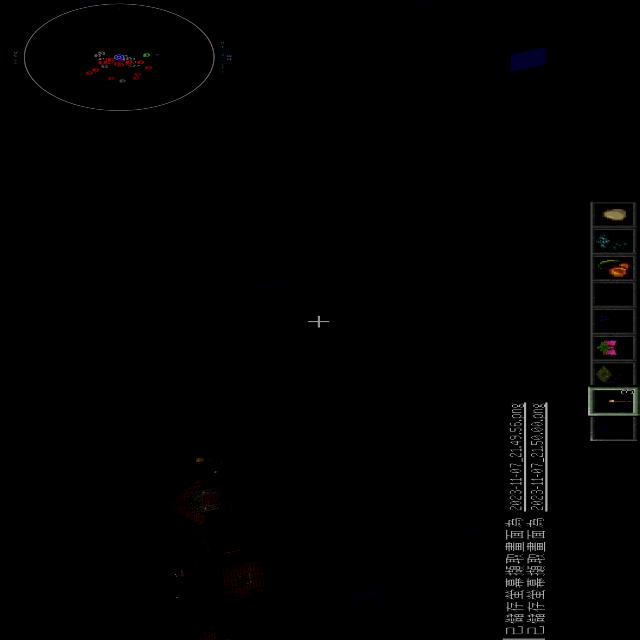Creeper: (306, 235, 390, 265), (326, 1, 386, 36)
Spider: (226, 314, 252, 334)
Zombie: (266, 120, 316, 146), (219, 280, 255, 294)
cow: (240, 362, 288, 390), (199, 342, 231, 357), (208, 294, 236, 306), (222, 306, 252, 316)
pig: (312, 494, 394, 570), (250, 410, 292, 432), (228, 402, 254, 422), (210, 334, 219, 339)
